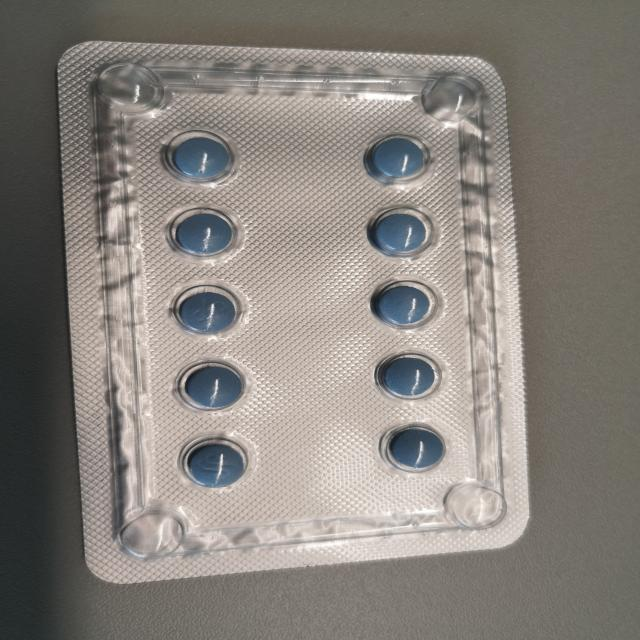Pill: (143, 121, 257, 191), (349, 127, 446, 186), (373, 419, 460, 482), (368, 349, 456, 411), (166, 278, 248, 344), (161, 204, 248, 266), (178, 432, 257, 494), (366, 276, 446, 337), (364, 201, 442, 262), (171, 360, 256, 414)
